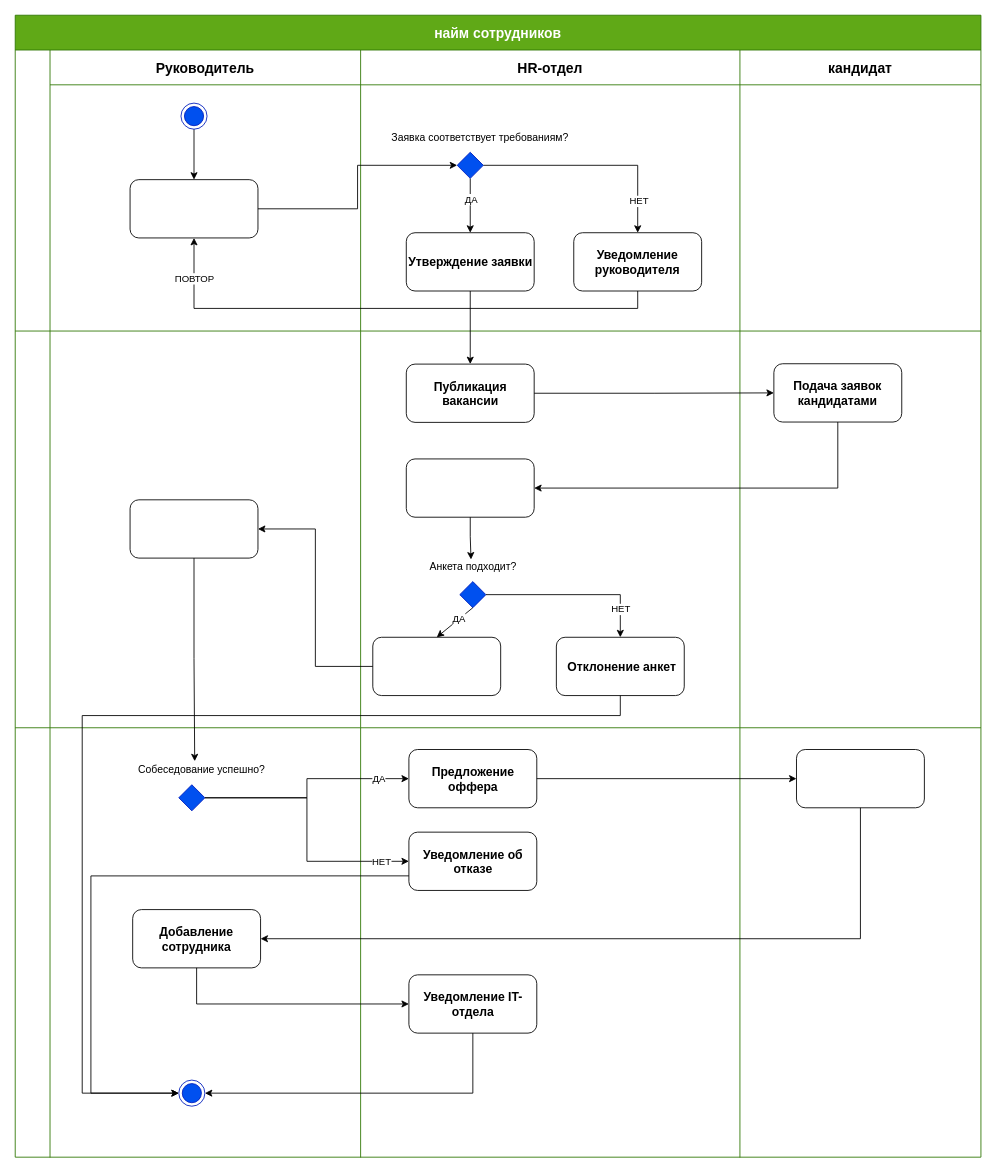
The diagram is 996 pixels wide and 1173 high, and some of its shapes have lost their labels. Here are the shapes that lost their labels. From the top down, the centre of each, then its label:
[193,208]: Создание заявки на вакансию
[469,487]: Проверка анкет кандидатов
[193,528]: Техническое собеседование
[436,666]: Приглашение на собеседования
[860,778]: Подтверждение оффера
